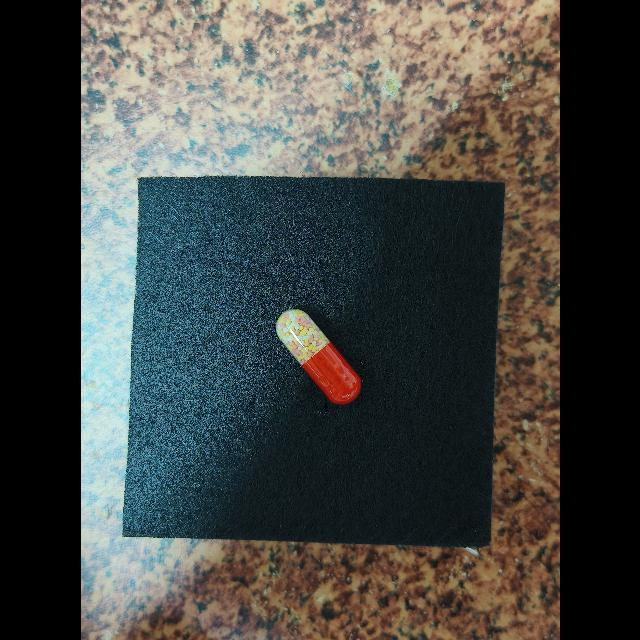Intact Capsule: (275, 309, 361, 404)
